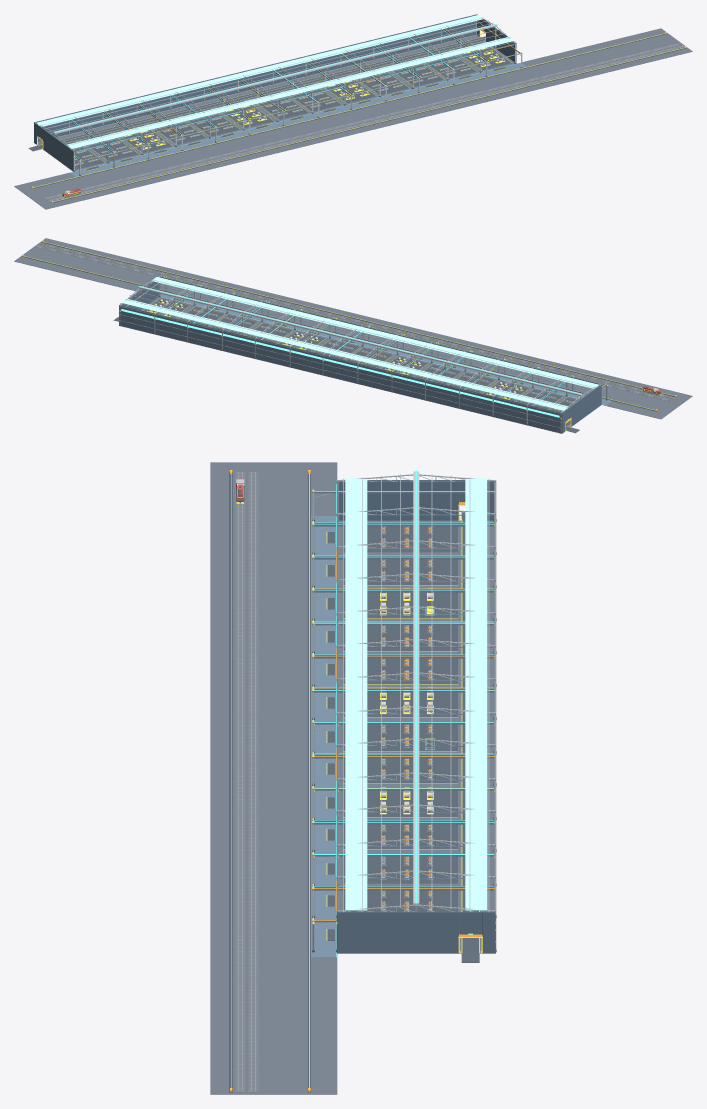
File: rebar-core-v4-high.glb
3 renders of one model, top to bottom at view 1: azimuth 30°, elevation 25°; view 2: azimuth 150°, elevation 25°; view 3: azimuth 270°, elevation 25°, orthographic. The views are drawn at different scales.
Visible parts, largest first — view 1: rebar-core-v4-high.glb-v5_rebar_apron, rebar-core-v4-high.glb-v5_heavy_gunmetal, rebar-core-v4-high.glb-v5_wh_cladding, rebar-core-v4-high.glb-v5_wh_truss, rebar-core-v4-high.glb-v5_wh_skylight, rebar-core-v4-high.glb-v5_wh_column, rebar-core-v4-high.glb-v5_rebar_ballast, rebar-core-v4-high.glb-v5_crane_yellow, rebar-core-v4-high.glb-v5_steel_rail, rebar-core-v4-high.glb-v5_wh_trim, rebar-core-v4-high.glb-v5_tech_cyan, rebar-core-v4-high.glb-v5_rebar_bundle (+2 smaller); view 2: rebar-core-v4-high.glb-v5_rebar_apron, rebar-core-v4-high.glb-v5_wh_cladding, rebar-core-v4-high.glb-v5_wh_skylight, rebar-core-v4-high.glb-v5_heavy_gunmetal, rebar-core-v4-high.glb-v5_wh_truss, rebar-core-v4-high.glb-v5_wh_column, rebar-core-v4-high.glb-v5_rebar_ballast, rebar-core-v4-high.glb-v5_wh_trim, rebar-core-v4-high.glb-v5_steel_rail, rebar-core-v4-high.glb-v5_crane_yellow, rebar-core-v4-high.glb-v5_tech_cyan, rebar-core-v4-high.glb-v5_rebar_bundle (+2 smaller); view 3: rebar-core-v4-high.glb-v5_rebar_apron, rebar-core-v4-high.glb-v5_heavy_gunmetal, rebar-core-v4-high.glb-v5_wh_skylight, rebar-core-v4-high.glb-v5_wh_column, rebar-core-v4-high.glb-v5_rebar_ballast, rebar-core-v4-high.glb-v5_wh_truss, rebar-core-v4-high.glb-v5_wh_cladding, rebar-core-v4-high.glb-v5_crane_yellow, rebar-core-v4-high.glb-v5_tech_cyan, rebar-core-v4-high.glb-v5_wh_trim, rebar-core-v4-high.glb-v5_steel_rail, rebar-core-v4-high.glb-v5_crane_orange (+2 smaller).
Part boxes in pixels (x1=…): rebar-core-v4-high.glb-v5_rebar_apron: x1=14, y1=28, x2=692, y2=209; rebar-core-v4-high.glb-v5_heavy_gunmetal: x1=28, y1=33, x2=686, y2=202; rebar-core-v4-high.glb-v5_wh_cladding: x1=34, y1=14, x2=516, y2=171; rebar-core-v4-high.glb-v5_wh_truss: x1=34, y1=14, x2=522, y2=174; rebar-core-v4-high.glb-v5_wh_skylight: x1=36, y1=15, x2=513, y2=148; rebar-core-v4-high.glb-v5_wh_column: x1=37, y1=19, x2=526, y2=176; rebar-core-v4-high.glb-v5_rebar_ballast: x1=45, y1=43, x2=684, y2=201; rebar-core-v4-high.glb-v5_crane_yellow: x1=34, y1=30, x2=684, y2=202; rebar-core-v4-high.glb-v5_steel_rail: x1=45, y1=43, x2=683, y2=201; rebar-core-v4-high.glb-v5_wh_trim: x1=44, y1=24, x2=497, y2=133; rebar-core-v4-high.glb-v5_tech_cyan: x1=39, y1=24, x2=520, y2=172; rebar-core-v4-high.glb-v5_rebar_bundle: x1=70, y1=56, x2=470, y2=165; rebar-core-v4-high.glb-v5_rebar_apron: x1=14, y1=238, x2=692, y2=433; rebar-core-v4-high.glb-v5_wh_cladding: x1=119, y1=276, x2=601, y2=433; rebar-core-v4-high.glb-v5_wh_skylight: x1=121, y1=277, x2=598, y2=417; rebar-core-v4-high.glb-v5_heavy_gunmetal: x1=22, y1=242, x2=677, y2=433; rebar-core-v4-high.glb-v5_wh_truss: x1=119, y1=276, x2=607, y2=432; rebar-core-v4-high.glb-v5_wh_column: x1=121, y1=277, x2=612, y2=412; rebar-core-v4-high.glb-v5_rebar_ballast: x1=35, y1=243, x2=675, y2=401; rebar-core-v4-high.glb-v5_wh_trim: x1=119, y1=286, x2=582, y2=428; rebar-core-v4-high.glb-v5_steel_rail: x1=36, y1=243, x2=674, y2=401; rebar-core-v4-high.glb-v5_crane_yellow: x1=24, y1=242, x2=674, y2=430; rebar-core-v4-high.glb-v5_tech_cyan: x1=138, y1=286, x2=605, y2=419; rebar-core-v4-high.glb-v5_rebar_bundle: x1=181, y1=309, x2=575, y2=411; rebar-core-v4-high.glb-v5_rebar_apron: x1=210, y1=462, x2=495, y2=1094; rebar-core-v4-high.glb-v5_heavy_gunmetal: x1=229, y1=472, x2=496, y2=1092; rebar-core-v4-high.glb-v5_wh_skylight: x1=345, y1=478, x2=487, y2=910; rebar-core-v4-high.glb-v5_wh_column: x1=311, y1=480, x2=495, y2=956; rebar-core-v4-high.glb-v5_rebar_ballast: x1=235, y1=472, x2=258, y2=1092; rebar-core-v4-high.glb-v5_wh_truss: x1=312, y1=474, x2=496, y2=950; rebar-core-v4-high.glb-v5_wh_cladding: x1=336, y1=480, x2=495, y2=952; rebar-core-v4-high.glb-v5_crane_yellow: x1=231, y1=473, x2=495, y2=1091; rebar-core-v4-high.glb-v5_tech_cyan: x1=314, y1=470, x2=494, y2=957; rebar-core-v4-high.glb-v5_wh_trim: x1=413, y1=471, x2=495, y2=942; rebar-core-v4-high.glb-v5_steel_rail: x1=238, y1=472, x2=255, y2=1091; rebar-core-v4-high.glb-v5_crane_orange: x1=230, y1=470, x2=494, y2=1091.
Size of the model in its own units: 574 by 21.44 by 110.
